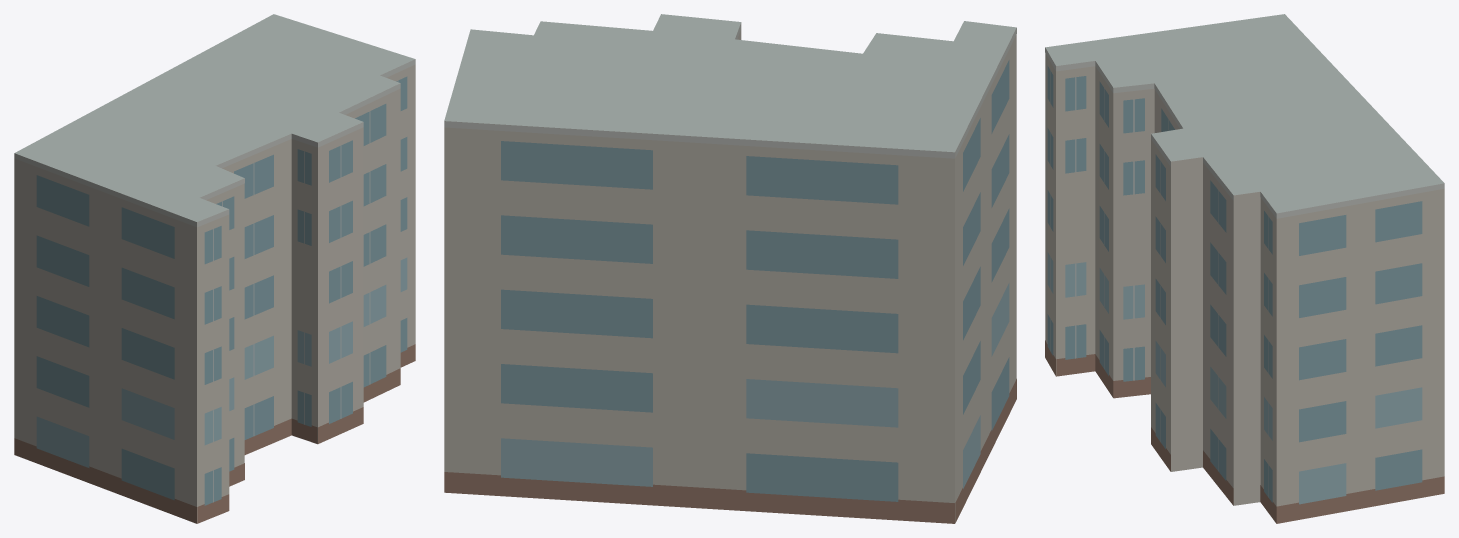
Rendered from survey-upis-32750205.glb.
The picture shows the model from 3 angles, left to right: view 1: azimuth 30°, elevation 25°; view 2: azimuth 150°, elevation 25°; view 3: azimuth 270°, elevation 25°; orthographic projection. The views are drawn at different scales.
Visible parts, largest first — view 1: survey-upis-32750205.tmp; view 2: survey-upis-32750205.tmp; view 3: survey-upis-32750205.tmp.
Part boxes in pixels (x1,y1,x2,y2): survey-upis-32750205.tmp: (14, 14, 415, 523); survey-upis-32750205.tmp: (444, 14, 1016, 523); survey-upis-32750205.tmp: (1045, 14, 1444, 523).
Bounding box in the file's own units: 19.44 × 14.1 × 16.45.
